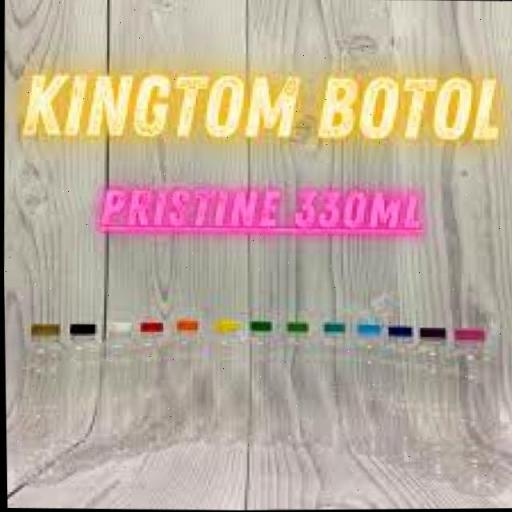plastic: (441, 322, 504, 494), (340, 313, 402, 480), (8, 318, 68, 490), (50, 317, 112, 483), (260, 314, 330, 460), (86, 312, 146, 482), (120, 307, 177, 469), (407, 323, 464, 484), (301, 314, 359, 464), (200, 310, 258, 459), (374, 324, 428, 472), (234, 314, 288, 460), (160, 316, 214, 460)
